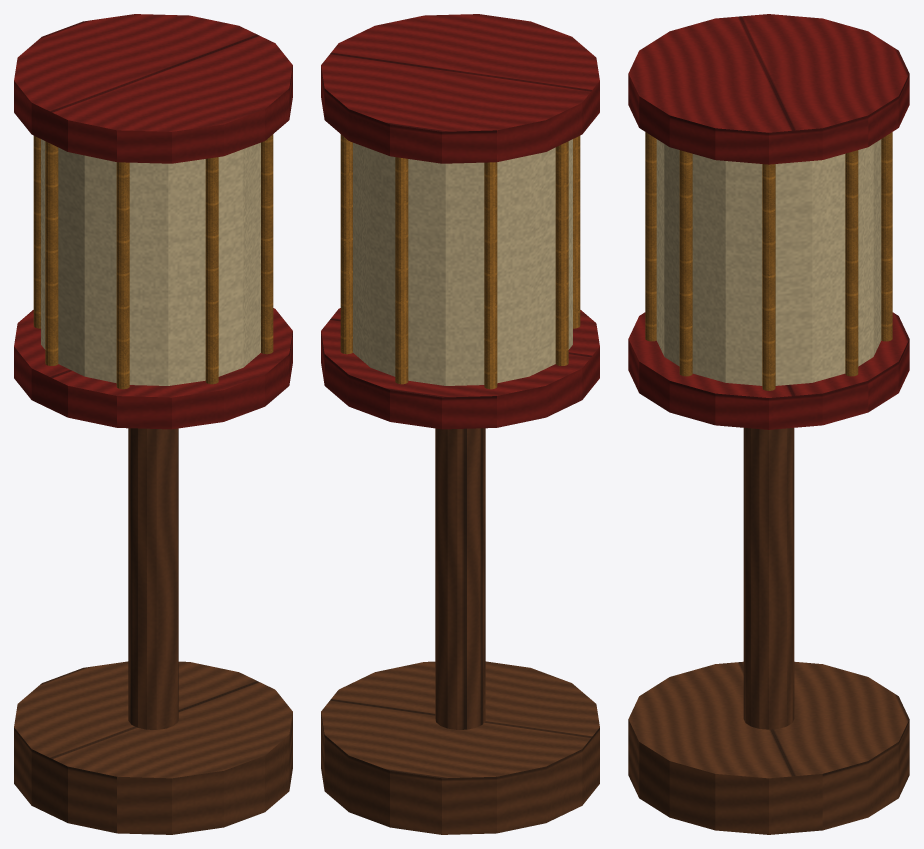
Rendered from floor_lantern.glb.
The picture shows the model from 3 angles, left to right: view 1: azimuth 30°, elevation 25°; view 2: azimuth 150°, elevation 25°; view 3: azimuth 270°, elevation 25°; orthographic projection.
Visible parts, largest first — view 1: floor_lantern_Walnut, floor_lantern_Lacquer, floor_lantern_Paper, floor_lantern_Brass; view 2: floor_lantern_Walnut, floor_lantern_Lacquer, floor_lantern_Paper, floor_lantern_Brass; view 3: floor_lantern_Walnut, floor_lantern_Lacquer, floor_lantern_Paper, floor_lantern_Brass.
Boxes of the visible parts, x1,y1,x2,y2 form: floor_lantern_Walnut: (14,428,292,834); floor_lantern_Lacquer: (14,14,292,429); floor_lantern_Paper: (41,139,260,385); floor_lantern_Brass: (33,134,273,389); floor_lantern_Walnut: (321,428,599,834); floor_lantern_Lacquer: (321,14,599,429); floor_lantern_Paper: (353,139,572,385); floor_lantern_Brass: (340,134,580,389); floor_lantern_Walnut: (628,428,909,834); floor_lantern_Lacquer: (628,14,909,429); floor_lantern_Paper: (656,139,881,385); floor_lantern_Brass: (645,132,892,390).
Size of the model in its own units: 0.72 by 1.99 by 0.72.
4 materials, 4 textured.
